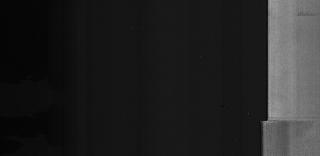rolled pit: (294, 10, 318, 18)
welding line: (256, 116, 320, 126)
